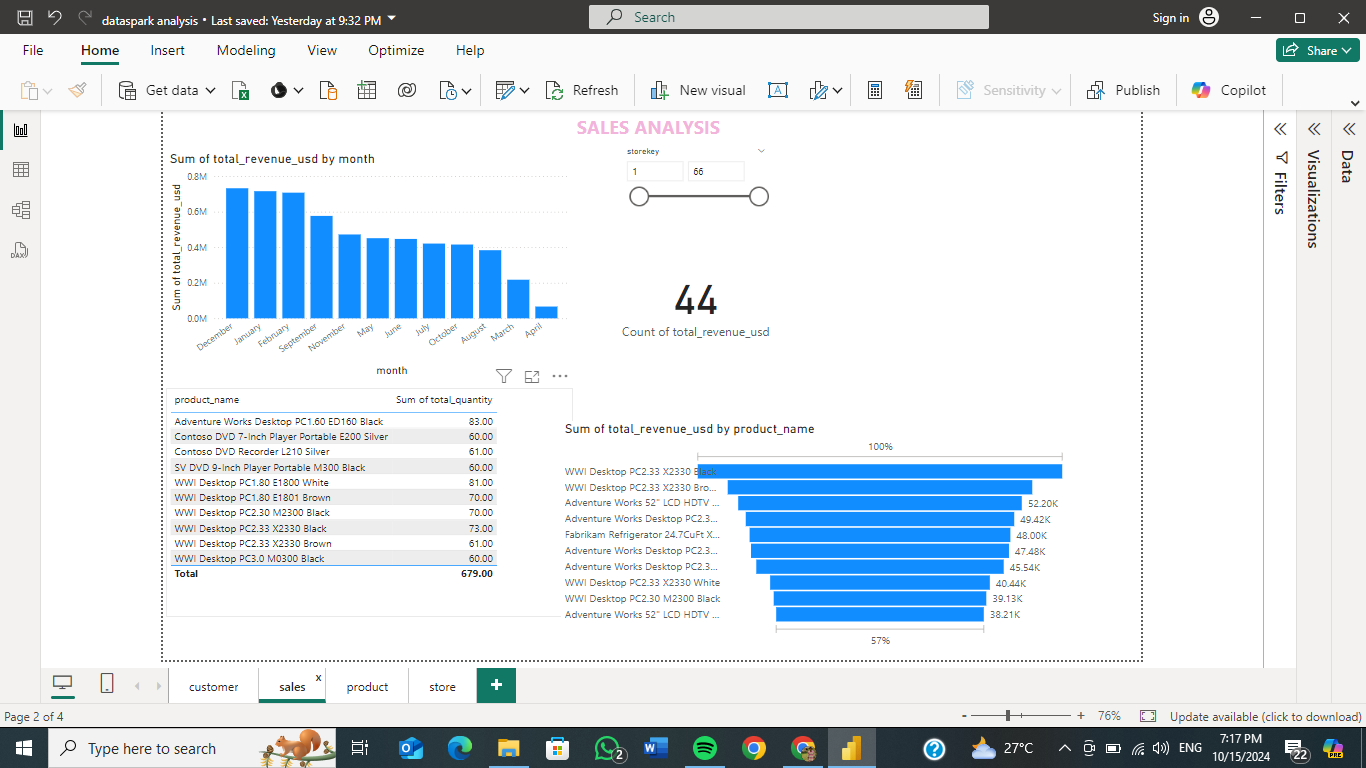

The page's visual inventory and layout, read from the dashboard file:
{"tool":"powerbi","page":{"name":"sales","canvas":[1280,720],"ordinal":1},"visuals":[{"type":"textbox","box":[536.8,0,206.5,53.7],"z":0},{"type":"clusteredColumnChart","fields":{"Y":["Sum(Query4.total_revenue_usd)"],"Category":["Query4.month"]},"box":[4.1,53.7,532.6,300],"z":1000},{"type":"tableEx","fields":{"Values":["Query5.product_name","Sum(Query5.total_quantity)"]},"box":[4,364,533,300],"z":2000},{"type":"funnel","fields":{"Category":["Query6.product_name"],"Y":["Sum(Query6.total_revenue_usd)"]},"box":[521.6,407.4,666.2,300],"z":3000},{"type":"card","fields":{"Values":["CountNonNull(Query7.total_revenue_usd)"]},"box":[594.6,172,206.5,161],"z":4000},{"type":"slicer","fields":{"Values":["Query7.storekey"]},"box":[594.6,42.7,206.5,129.4],"z":5000}]}

Visuals, with their boxes on the page's 1280x720 design canvas (x1, y1, x2, y2). These are canvas units, not pixel positions in the 1366x768 screenshot, which may show the page scaled, cropped or inside an application window:
textbox: (537,0,743,54)
clusteredColumnChart - Sum(Query4.total_revenue_usd) x Query4.month: (4,54,537,354)
tableEx - Query5.product_name x Sum(Query5.total_quantity): (4,364,537,664)
funnel - Query6.product_name x Sum(Query6.total_revenue_usd): (522,407,1188,707)
card - CountNonNull(Query7.total_revenue_usd): (595,172,801,333)
slicer - Query7.storekey: (595,43,801,172)
